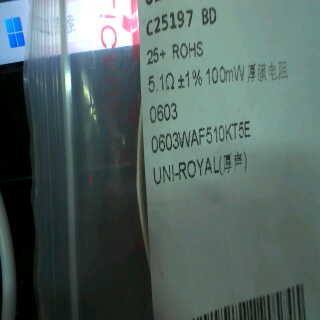5.1R: (147, 70, 177, 95)
